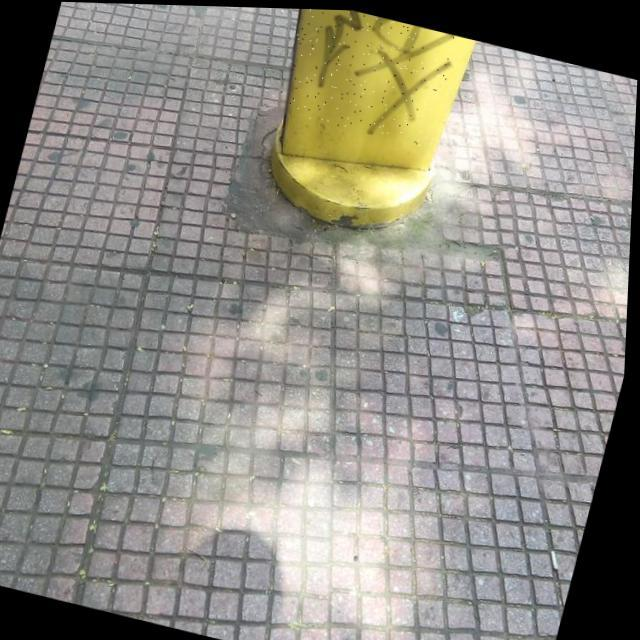-: (275, 7, 461, 146)
